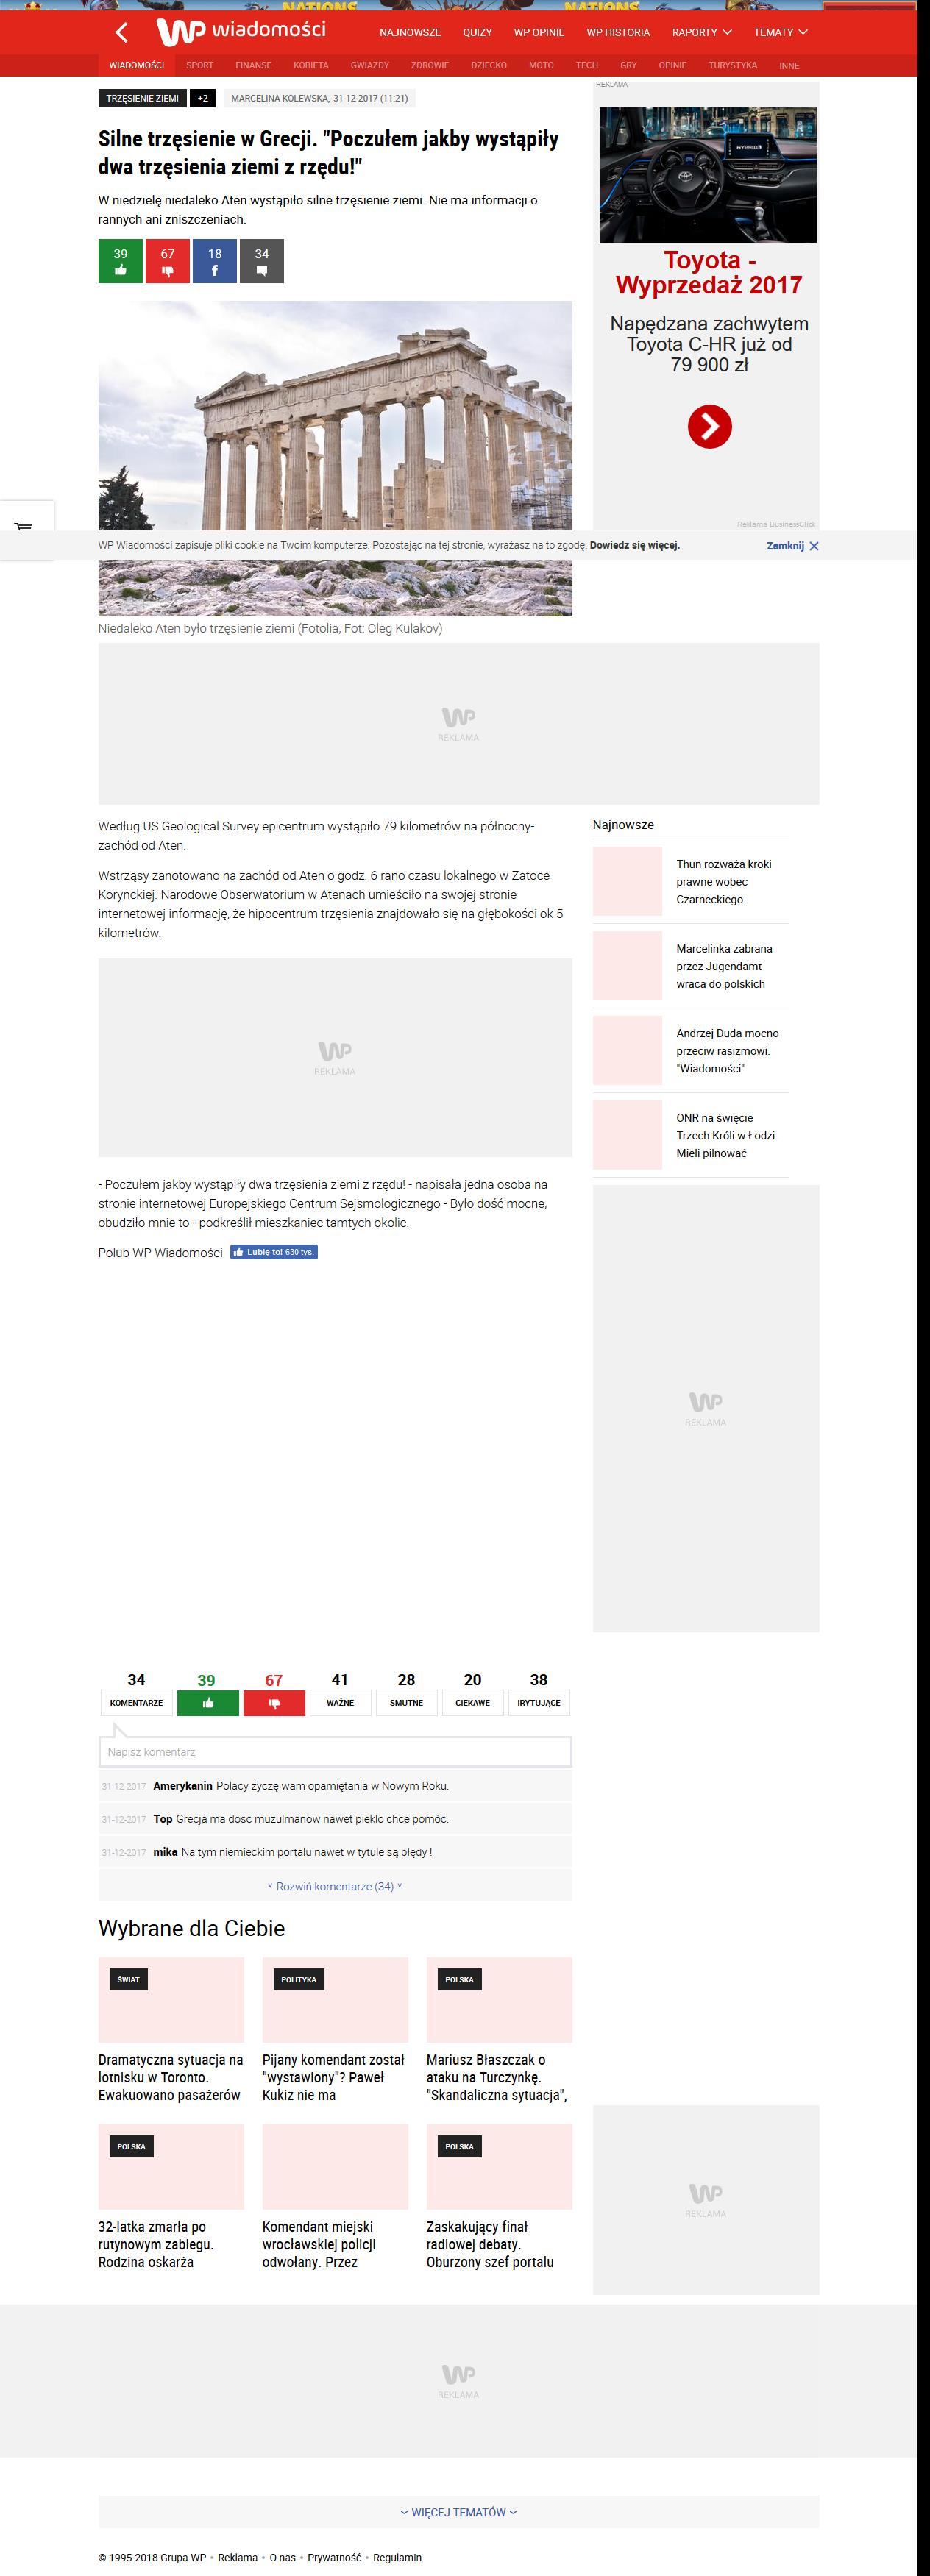title: (99, 128, 560, 179)
